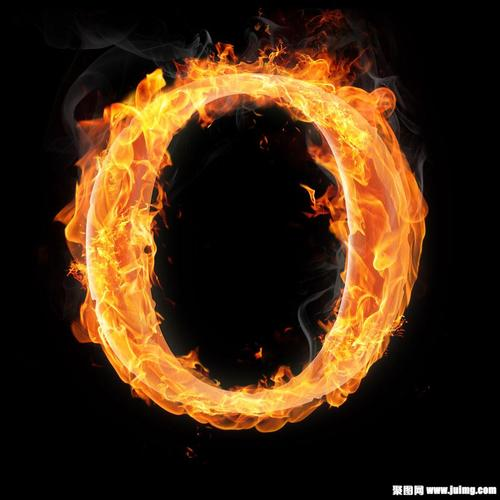fire: (69, 130, 87, 276)
